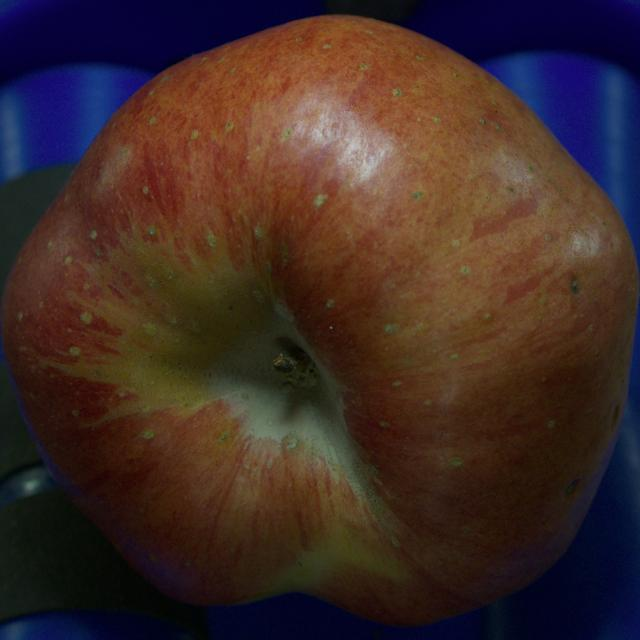apple: (0, 16, 639, 625)
pest: (565, 479, 579, 495), (286, 438, 297, 449), (572, 281, 578, 293)
